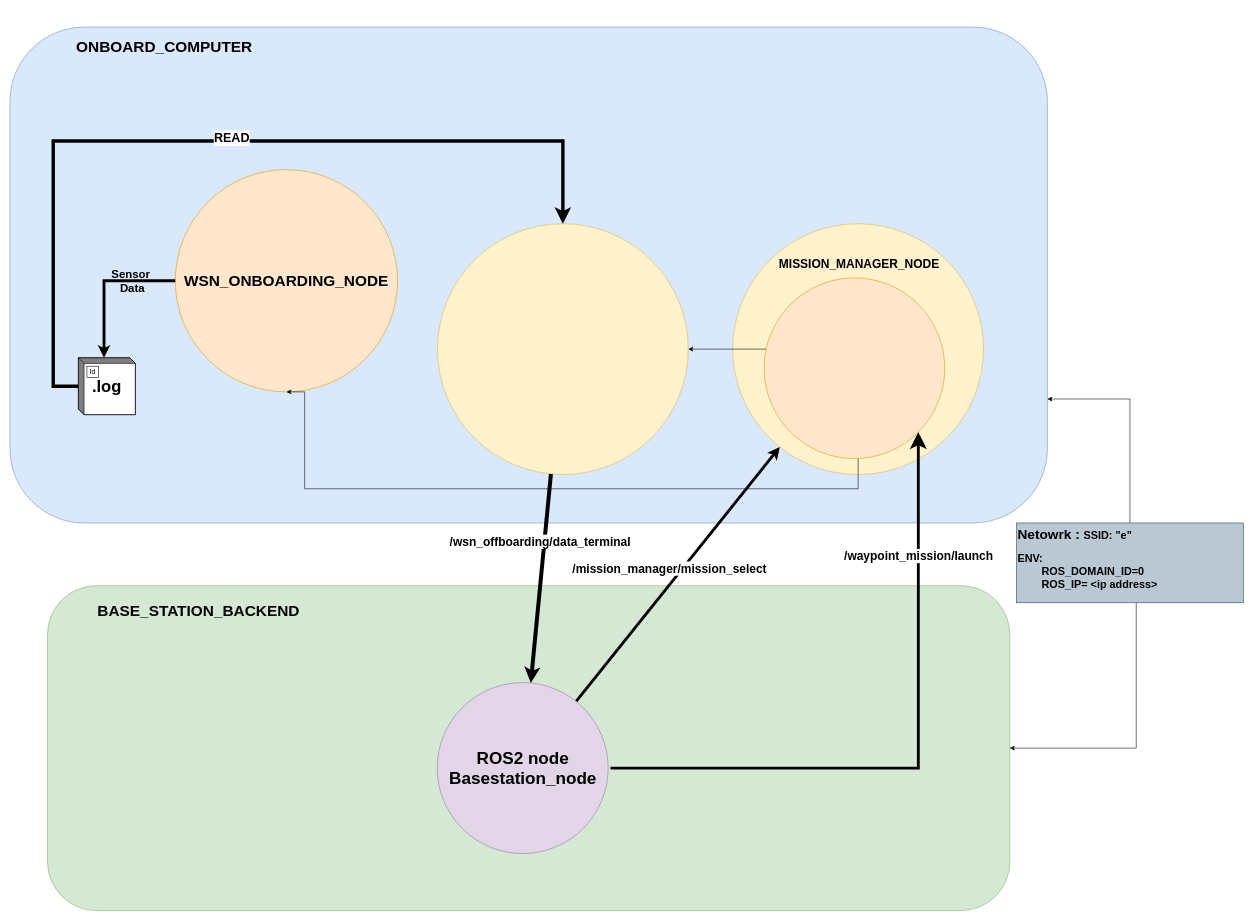
Image size: 1253x921. Some labels were removed from this diagram. Here are the shapes that lost their labels. From the top down, the centre of each, then its label:
At point (562, 349): "WSN_OFFBOARDING_NODE".
At point (854, 368): "WAYPOINT_MISSION_NODE".
